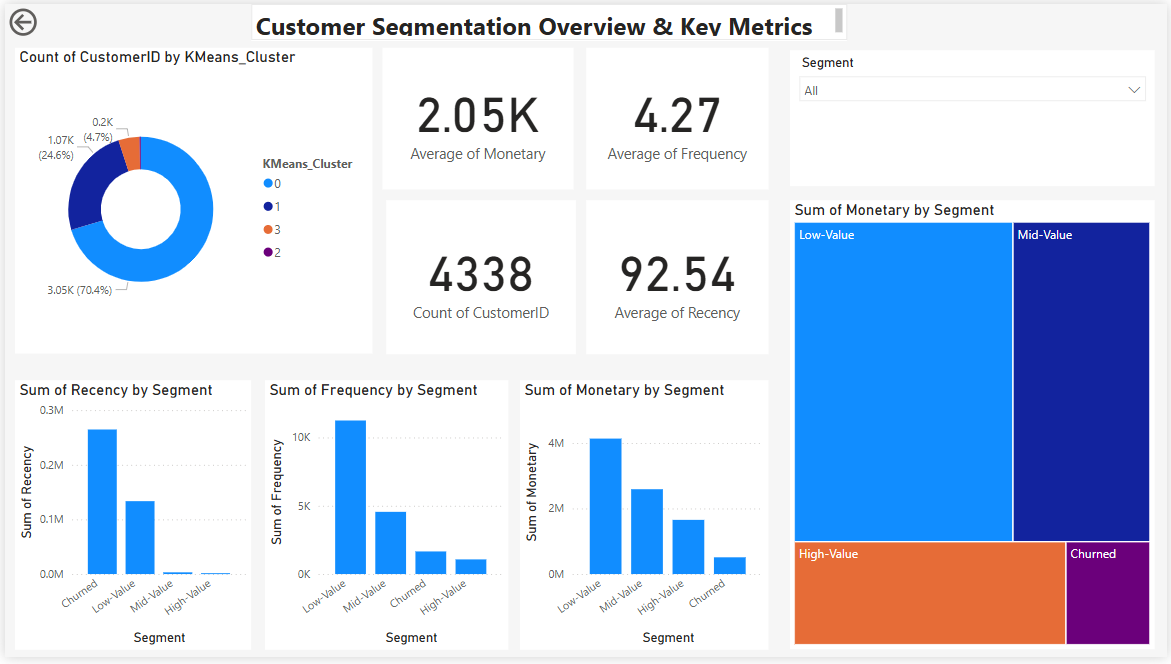

The dashboard page shown, as its layout file describes it:
{"tool":"powerbi","page":{"name":"Customer_segmentation","canvas":[1280,720],"ordinal":0},"visuals":[{"type":"donutChart","fields":{"Y":["CountNonNull(customer_segmentation_powerbi (2).CustomerID)"],"Category":["customer_segmentation_powerbi (2).KMeans_Cluster","customer_segmentation_powerbi (2).Segment"]},"box":[10.8,48.5,393.5,336.9],"z":0},{"type":"clusteredColumnChart","fields":{"Y":["Sum(customer_segmentation_powerbi (2).Recency)"],"Category":["customer_segmentation_powerbi (2).Segment"]},"box":[10.8,413.7,260.1,296.5],"z":1000},{"type":"treemap","fields":{"Group":["customer_segmentation_powerbi (2).Segment"],"Values":["Sum(customer_segmentation_powerbi (2).Monetary)"]},"box":[865.2,215.6,401.6,494.6],"z":2000},{"type":"slicer","fields":{"Values":["customer_segmentation_powerbi (2).Segment"]},"box":[865.2,51.2,401.6,149.6],"z":3000},{"type":"card","fields":{"Values":["Avg(customer_segmentation_powerbi (2).Monetary)"]},"box":[416.4,48.5,210.2,156.3],"z":4000},{"type":"clusteredColumnChart","fields":{"Y":["Sum(customer_segmentation_powerbi (2).Frequency)"],"Category":["customer_segmentation_powerbi (2).Segment"]},"box":[285.7,413.7,268.2,296.5],"z":5000},{"type":"clusteredColumnChart","fields":{"Category":["customer_segmentation_powerbi (2).Segment"],"Y":["Sum(customer_segmentation_powerbi (2).Monetary)"]},"box":[567.4,413.7,273.6,296.5],"z":6000},{"type":"actionButton","box":[0,0,100,40],"z":7000},{"type":"card","fields":{"Values":["CountNonNull(customer_segmentation_powerbi (2).CustomerID)"]},"box":[420.5,215.6,208.9,169.8],"z":8000},{"type":"card","fields":{"Values":["Avg(customer_segmentation_powerbi (2).Frequency)"]},"box":[640.1,48.5,200.8,156.3],"z":9000},{"type":"card","fields":{"Values":["Avg(customer_segmentation_powerbi (2).Recency)"]},"box":[640.1,215.6,200.8,169.8],"z":10000},{"type":"textbox","box":[270.9,0,656.3,40.4],"z":11000}]}

Visuals, with their boxes in screenshot pixels (x1, y1, x2, y2), scaled from the page's 1280x720 canvas onto the 1171x664 screenshot:
donutChart - CountNonNull(customer_segmentation_powerbi (2).CustomerID) x customer_segmentation_powerbi (2).KMeans_Cluster: 10, 45, 370, 355
clusteredColumnChart - Sum(customer_segmentation_powerbi (2).Recency) x customer_segmentation_powerbi (2).Segment: 10, 382, 248, 655
treemap - customer_segmentation_powerbi (2).Segment x Sum(customer_segmentation_powerbi (2).Monetary): 792, 199, 1159, 655
slicer - customer_segmentation_powerbi (2).Segment: 792, 47, 1159, 185
card - Avg(customer_segmentation_powerbi (2).Monetary): 381, 45, 573, 189
clusteredColumnChart - Sum(customer_segmentation_powerbi (2).Frequency) x customer_segmentation_powerbi (2).Segment: 261, 382, 507, 655
clusteredColumnChart - customer_segmentation_powerbi (2).Segment x Sum(customer_segmentation_powerbi (2).Monetary): 519, 382, 769, 655
actionButton: 0, 0, 91, 37
card - CountNonNull(customer_segmentation_powerbi (2).CustomerID): 385, 199, 576, 355
card - Avg(customer_segmentation_powerbi (2).Frequency): 586, 45, 769, 189
card - Avg(customer_segmentation_powerbi (2).Recency): 586, 199, 769, 355
textbox: 248, 0, 848, 37
